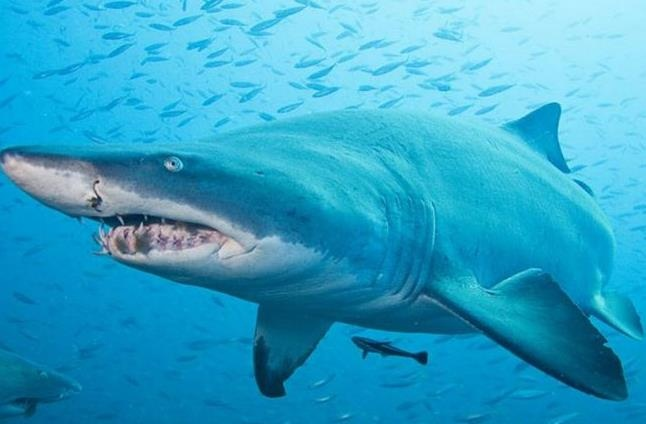fish: (9, 98, 645, 399)
